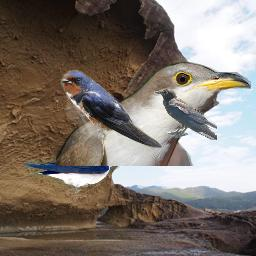Crow: (154, 89, 217, 140)
Cuckoo: (56, 62, 251, 166)
Swallow: (60, 70, 163, 148), (23, 146, 122, 195)
